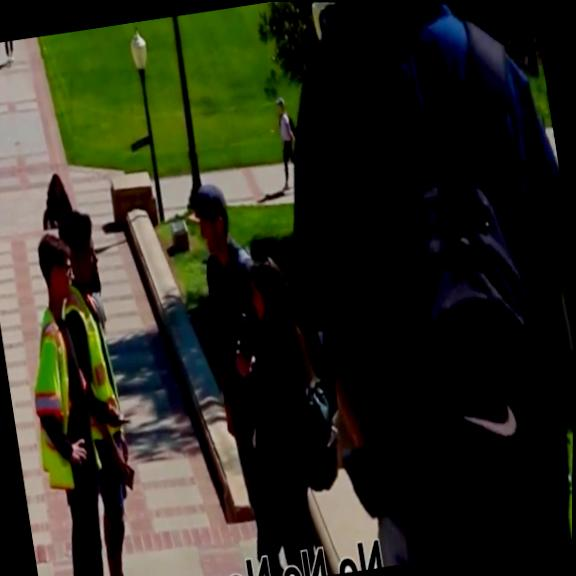safety_vest: (15, 303, 89, 498), (59, 274, 128, 440)
